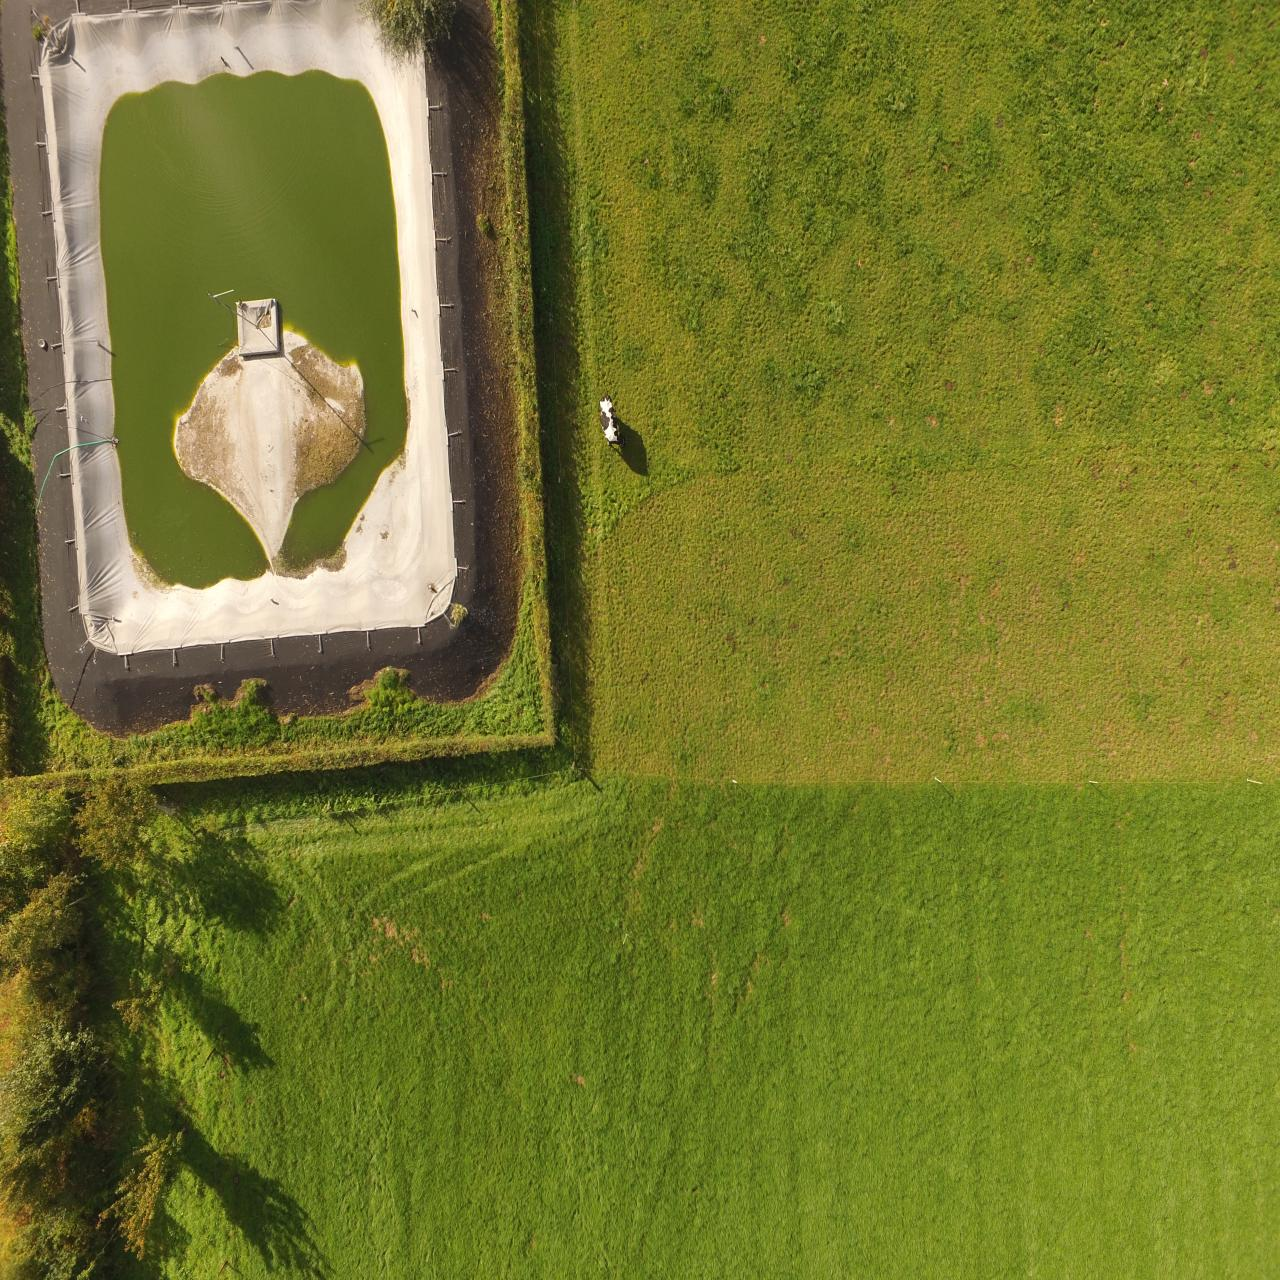cow: (598, 392, 627, 448)
